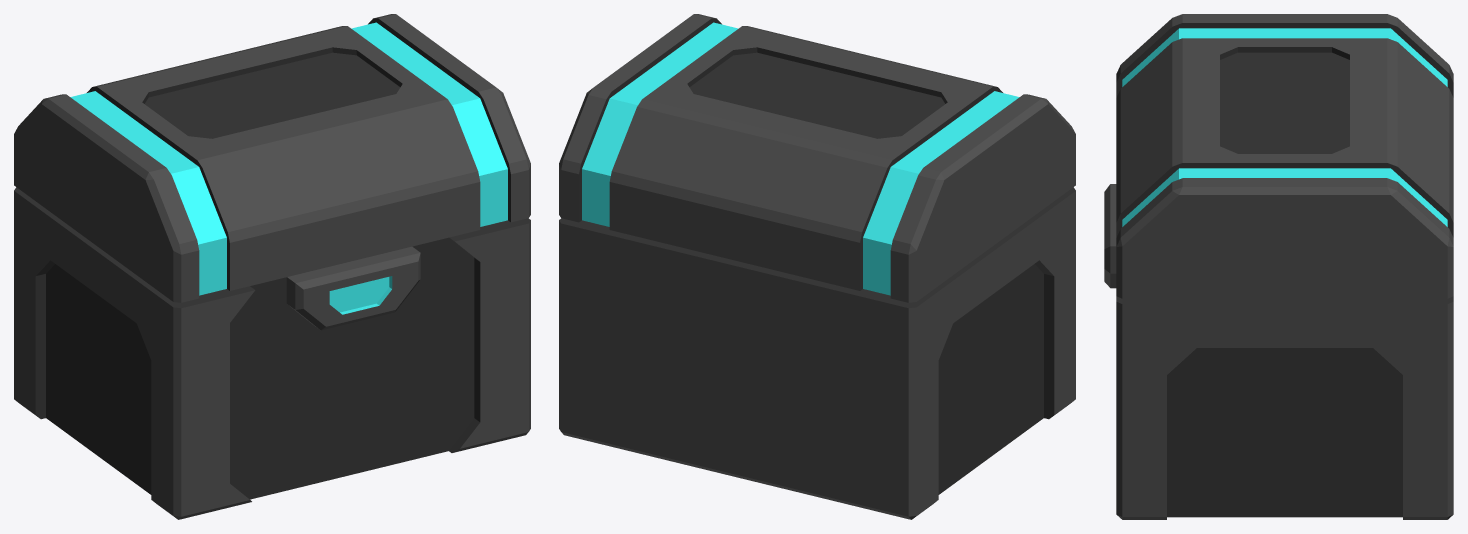
Rendered from HJD_SFB_Chest_01.fbx.
3 views of the same model, side by side, from view 1: azimuth 30°, elevation 25°; view 2: azimuth 150°, elevation 25°; view 3: azimuth 270°, elevation 25° (orthographic). The views are drawn at different scales.
Parts seen in each view (by area): view 1: Base, Lid; view 2: Base, Lid; view 3: Lid, Base.
Part boxes in pixels (x1,y1,x2,y2): Base: [14, 187, 530, 519]; Lid: [14, 14, 530, 302]; Base: [559, 187, 1075, 519]; Lid: [559, 14, 1075, 302]; Lid: [1116, 14, 1453, 298]; Base: [1104, 184, 1453, 519].
Size of the model in its own units: 70 by 61 by 58.
